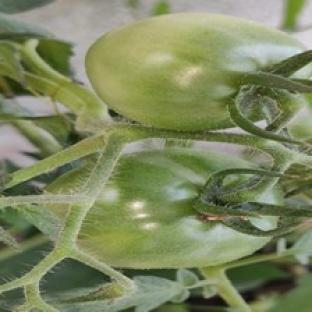Tomato: (87, 13, 303, 130), (78, 148, 270, 268)
